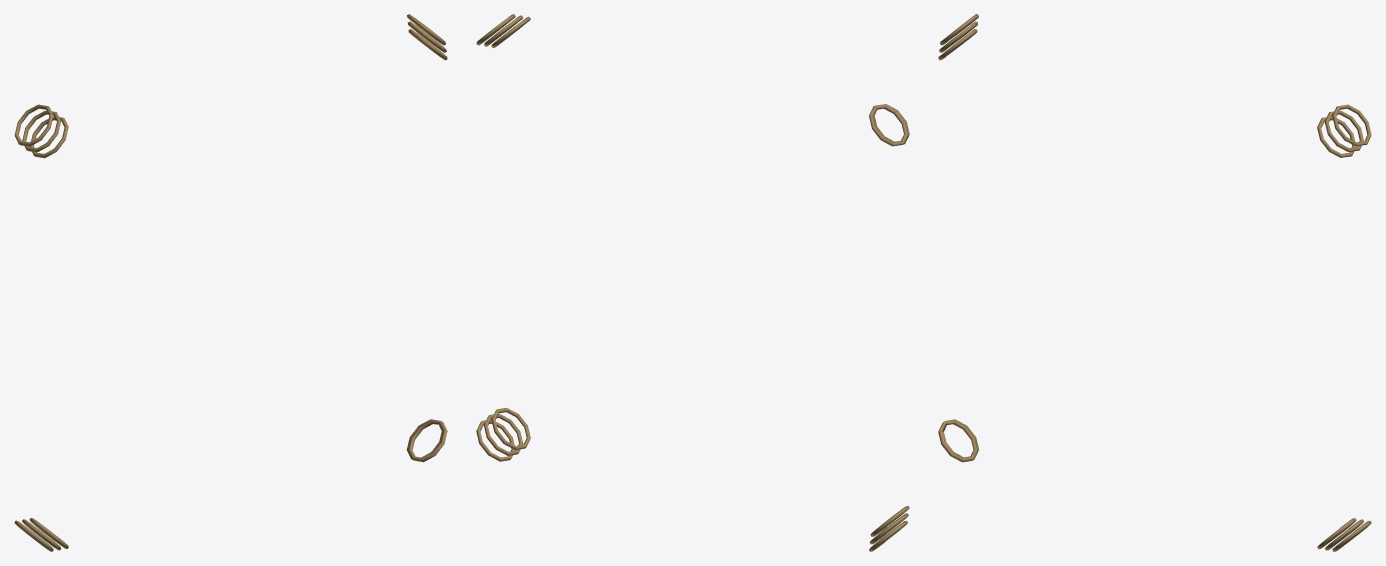
The model's file is k5_harness.obj.
The picture shows the model from 3 angles, left to right: view 1: azimuth 30°, elevation 25°; view 2: azimuth 150°, elevation 25°; view 3: azimuth 330°, elevation 25°; orthographic projection.
Visible parts, largest first — view 1: k5_harness; view 2: k5_harness; view 3: k5_harness.
Part boxes in pixels (box(x1,y1,x2,y2)): k5_harness: box(14, 14, 447, 551); k5_harness: box(476, 14, 909, 551); k5_harness: box(938, 14, 1371, 551).
Bounding box in the file's own units: 2.22 × 2.22 × 0.2862.
